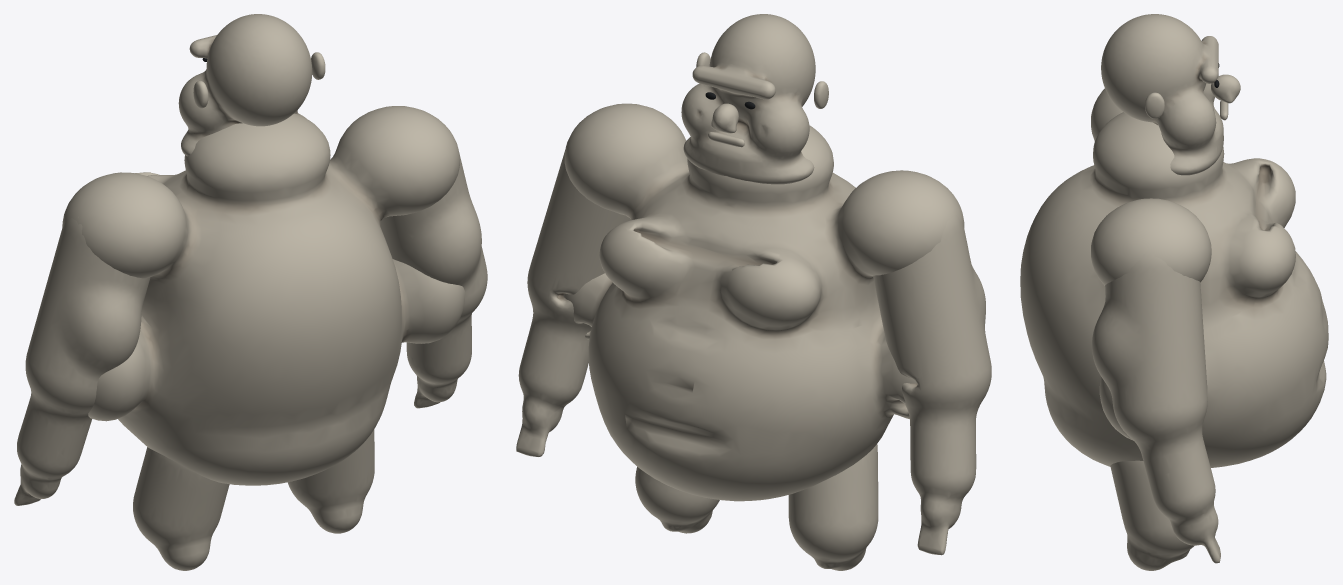
The model's file is boss_8_baron.glb.
The picture shows the model from 3 angles, left to right: view 1: azimuth 30°, elevation 25°; view 2: azimuth 150°, elevation 25°; view 3: azimuth 270°, elevation 25°; orthographic projection. The views are drawn at different scales.
Visible parts, largest first — view 1: BareTorso, Arm, BaldHead, Arm.001, Leg, Leg.001; view 2: BareTorso, Arm, BaldHead, Arm.001, Leg, Leg.001; view 3: BareTorso, Arm.001, BaldHead, Leg.001.
Boxes of the visible parts, x1,y1,x2,y2 form: BareTorso: (62,106,464,485); Arm: (14,216,150,505); BaldHead: (178,14,325,156); Arm.001: (380,155,487,408); Leg: (133,447,229,570); Leg.001: (287,429,374,533); BareTorso: (563,103,964,501); Arm: (873,213,991,555); BaldHead: (681,14,828,184); Arm.001: (516,150,630,456); Leg: (788,444,878,570); Leg.001: (635,466,719,533); BareTorso: (1020,88,1328,467); Arm.001: (1092,253,1220,563); BaldHead: (1101,14,1240,175); Leg.001: (1110,460,1194,570).
Bounding box in the file's own units: 2.66 × 3 × 1.63.
